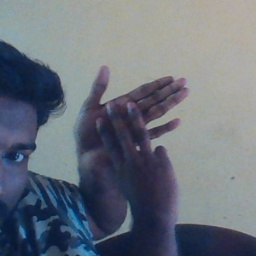M: (72, 64, 190, 208)
